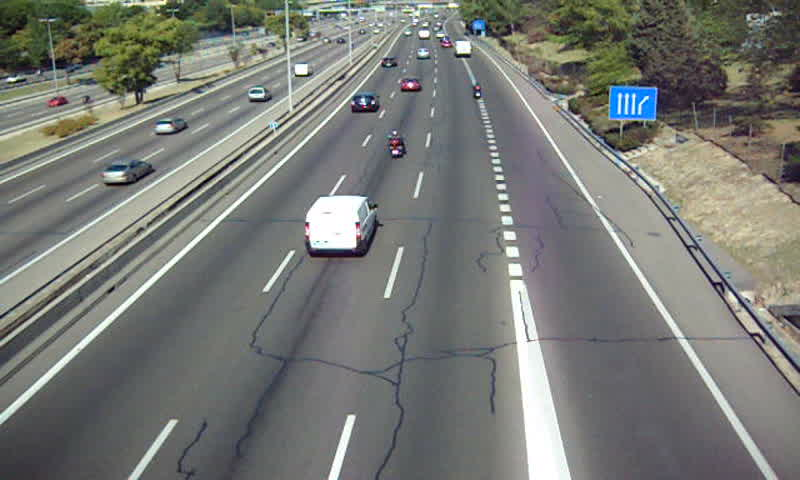car: (348, 90, 381, 115), (398, 78, 420, 93), (380, 56, 397, 69), (415, 46, 430, 60)
motorcycle: (387, 130, 404, 161), (472, 82, 482, 102)
van: (304, 196, 378, 259), (456, 40, 472, 58)
